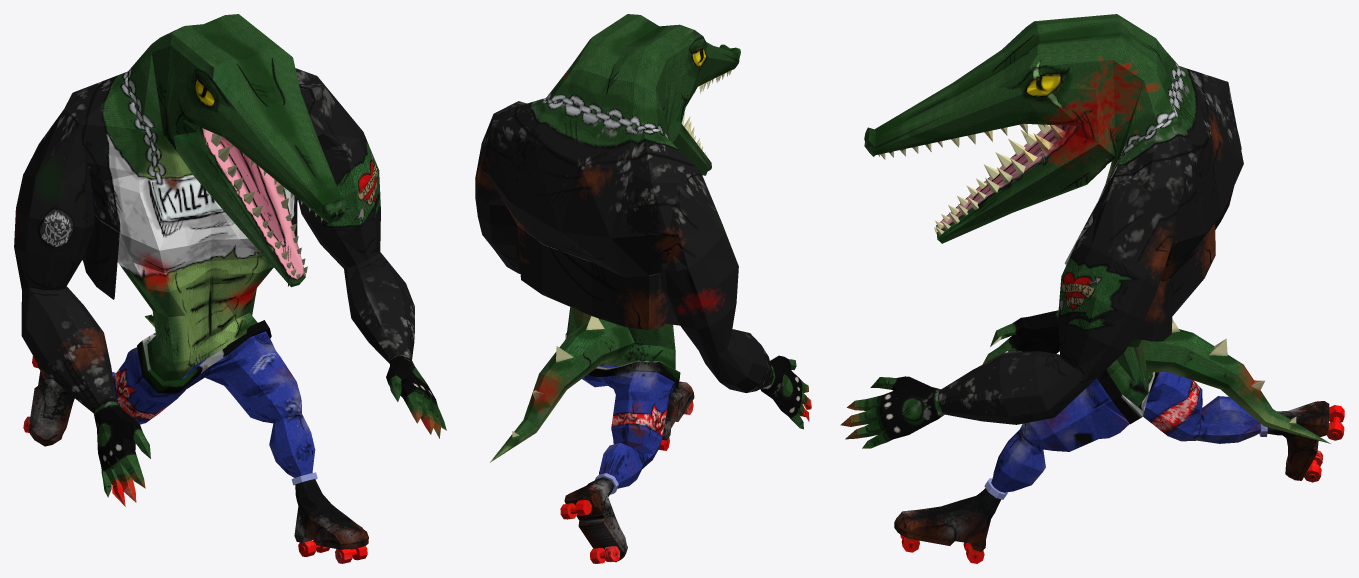
Rendered from cocodrilaBonesSelect_000038.obj.
The picture shows the model from 3 angles, left to right: view 1: azimuth 30°, elevation 25°; view 2: azimuth 150°, elevation 25°; view 3: azimuth 270°, elevation 25°; orthographic projection. The views are drawn at different scales.
Parts seen in each view (by area): view 1: Crocodile.002_Cylinder.002; view 2: Crocodile.002_Cylinder.002; view 3: Crocodile.002_Cylinder.002.
Boxes of the visible parts, x1,y1,x2,y2 form: Crocodile.002_Cylinder.002: (14,14,446,563); Crocodile.002_Cylinder.002: (475,14,811,563); Crocodile.002_Cylinder.002: (840,14,1344,563).
Bounding box in the file's own units: 4.05 × 5.92 × 5.31.
